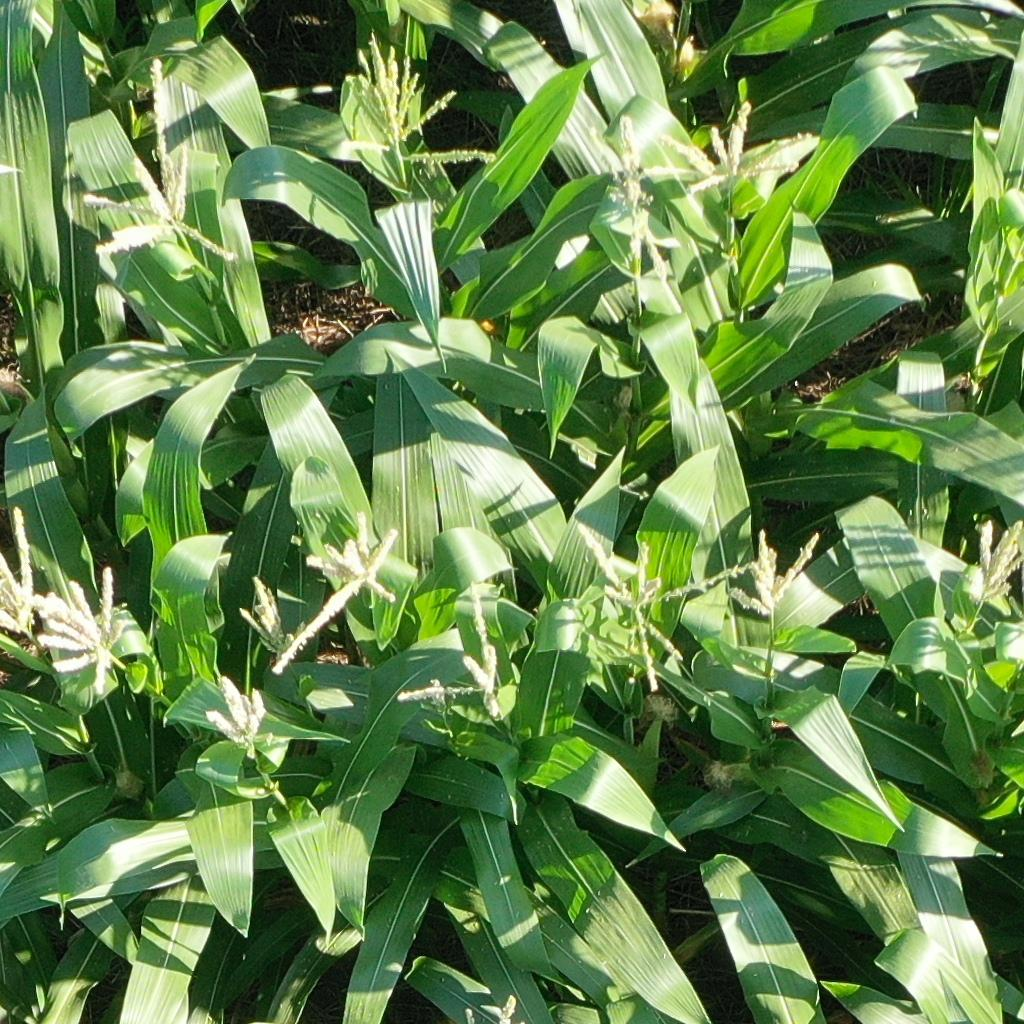Tassel: (80, 49, 250, 274), (573, 520, 741, 697), (267, 512, 408, 680), (343, 28, 500, 175), (401, 579, 525, 731), (646, 95, 821, 197), (581, 112, 683, 274), (39, 565, 135, 692), (729, 526, 826, 620), (202, 672, 274, 753), (1, 501, 43, 638), (962, 512, 1024, 601), (238, 574, 286, 648)
